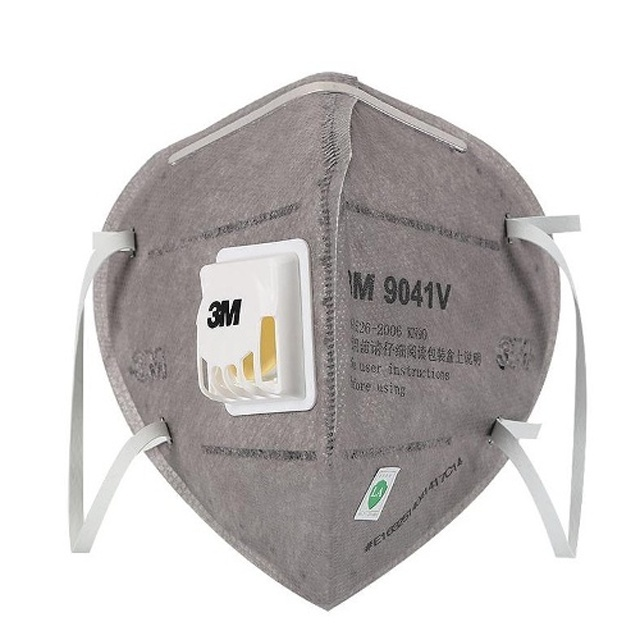mask: (58, 68, 596, 615)
